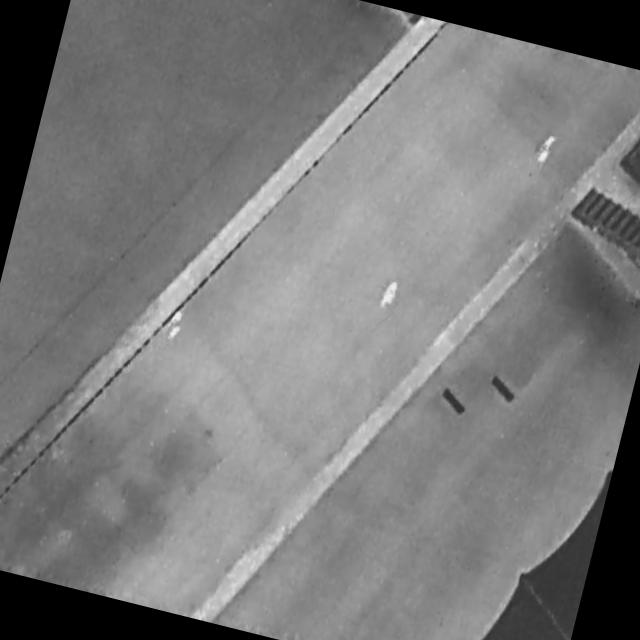person: (375, 273, 404, 317), (536, 129, 559, 167), (164, 309, 187, 344)
